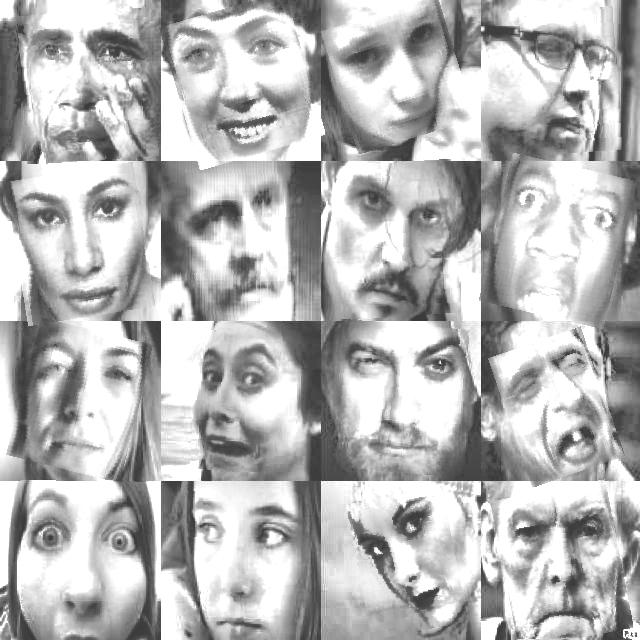angry: (331, 322, 466, 474), (496, 484, 626, 640), (522, 7, 620, 155)
fear: (487, 159, 629, 323), (19, 479, 146, 640), (192, 330, 280, 472)
happy: (168, 0, 316, 162), (498, 332, 616, 481)
neutral: (11, 166, 150, 322), (14, 323, 146, 477), (338, 161, 458, 319), (352, 490, 462, 636)
sad: (19, 9, 157, 162), (329, 2, 467, 146), (184, 490, 303, 640), (183, 174, 291, 316)
